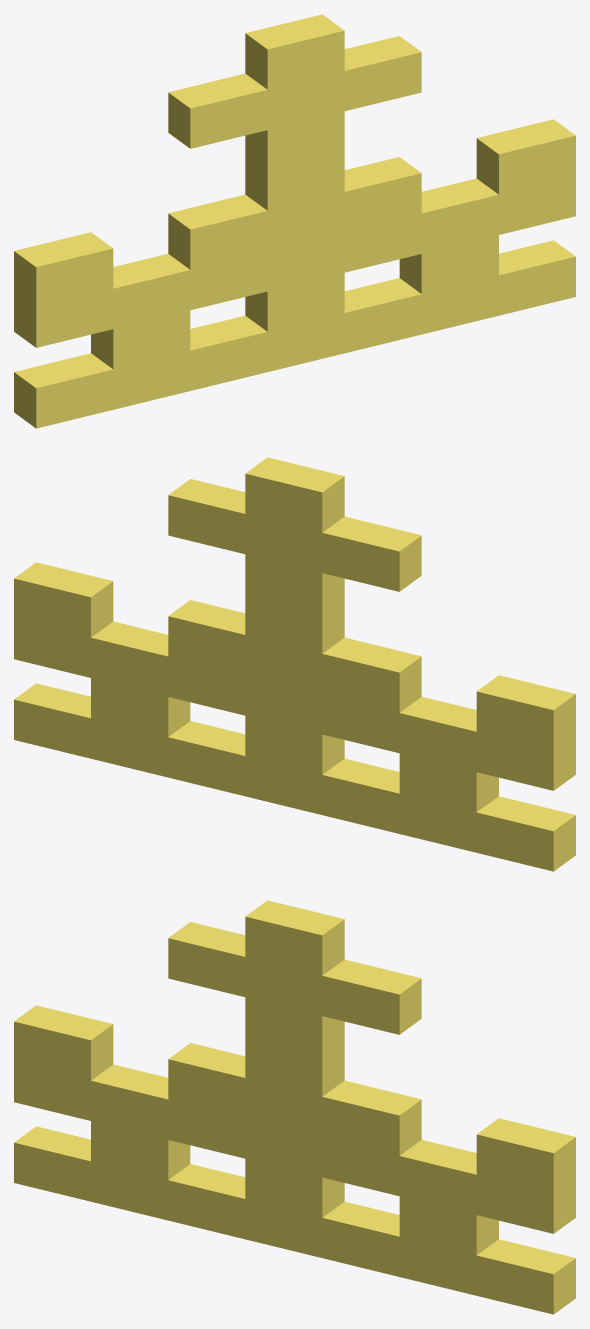
File: Crown-Yellow.vox.obj
3 renders of one model, top to bottom at view 1: azimuth 30°, elevation 25°; view 2: azimuth 150°, elevation 25°; view 3: azimuth 330°, elevation 25°, orthographic.
Size of the model in its own units: 1.4 by 0.8 by 0.1.
Materials: 1 (1 with a texture image).
